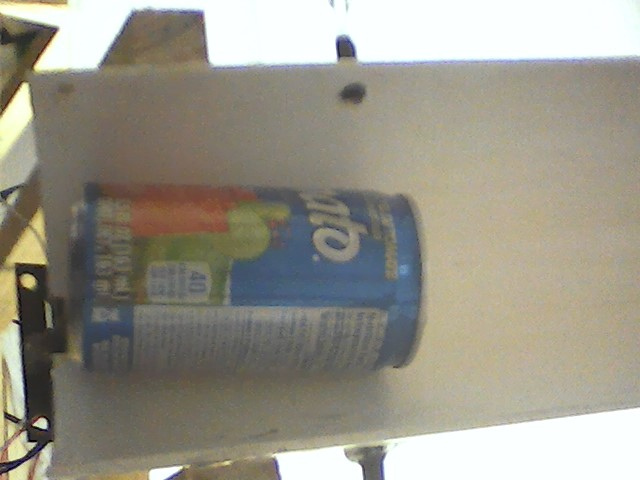lata: (56, 175, 435, 386)
